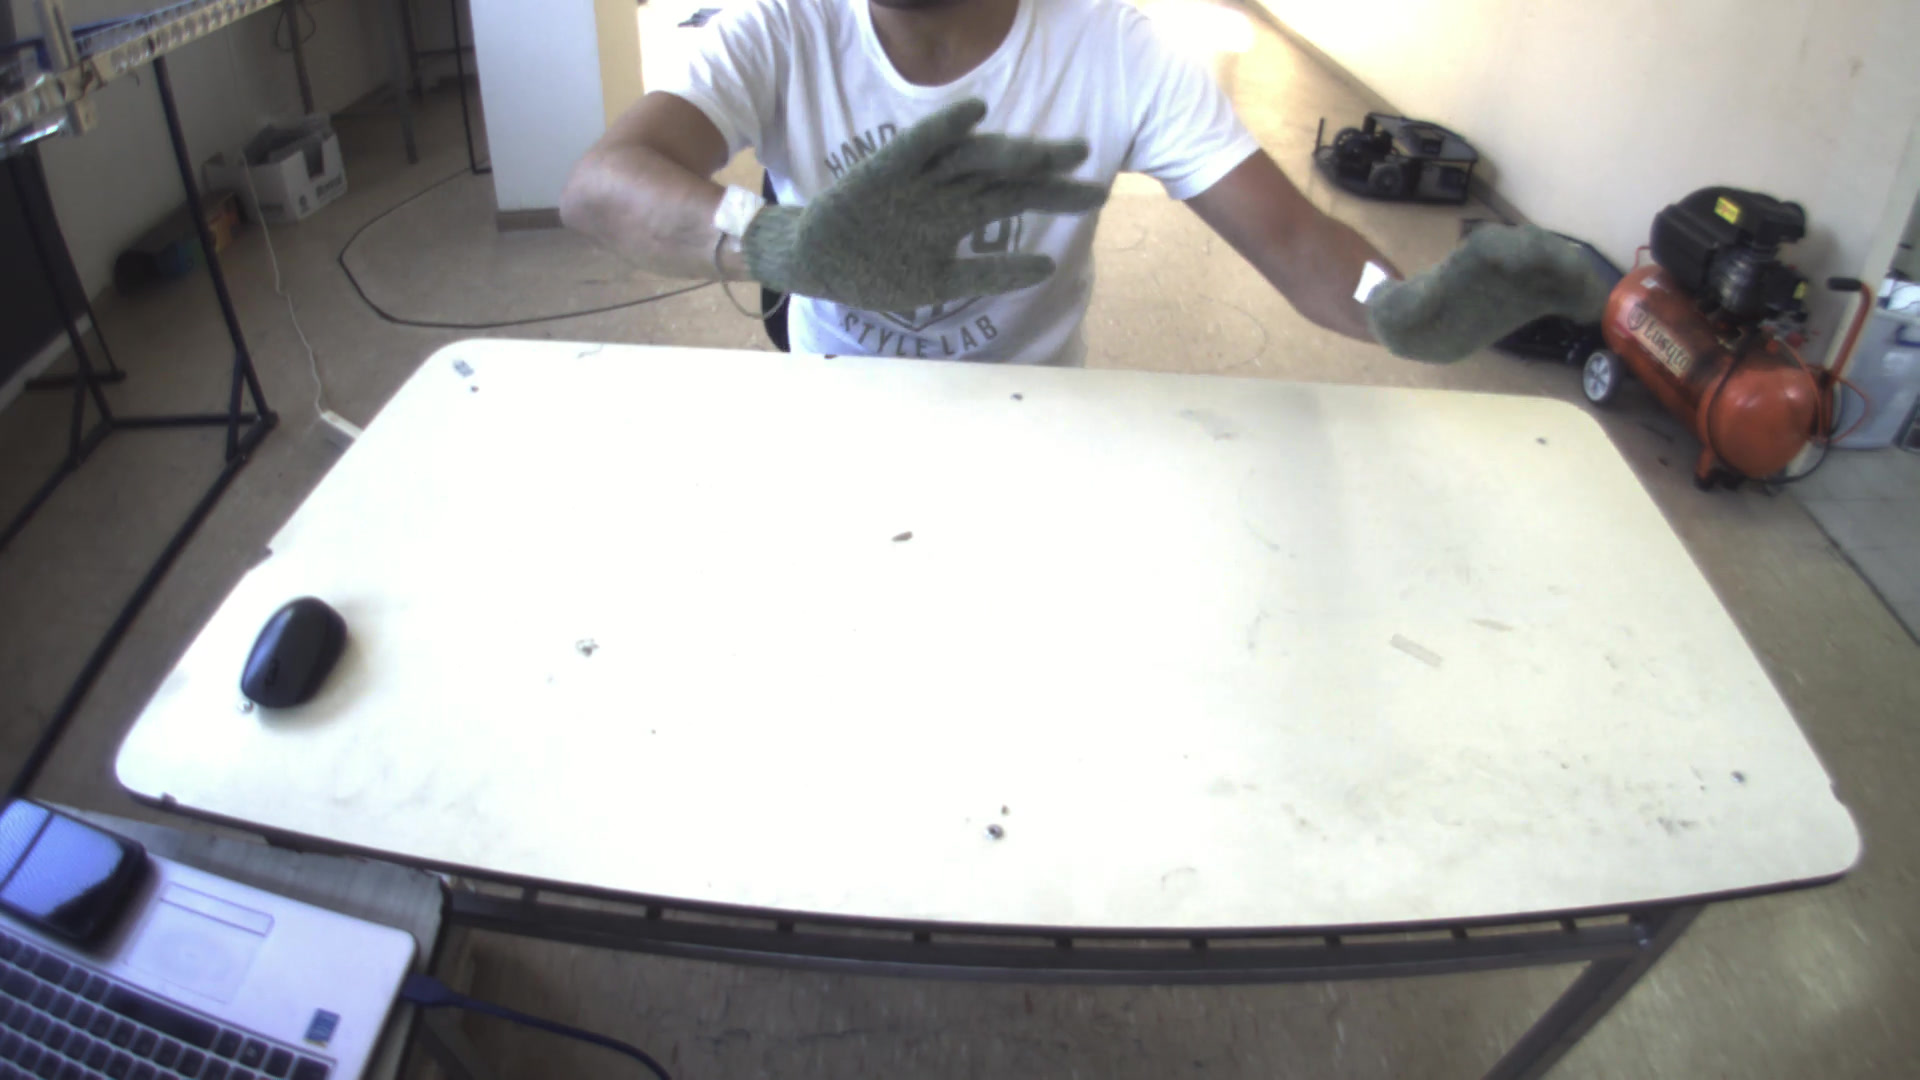hand: (731, 88, 1106, 306), (1366, 214, 1619, 371)
